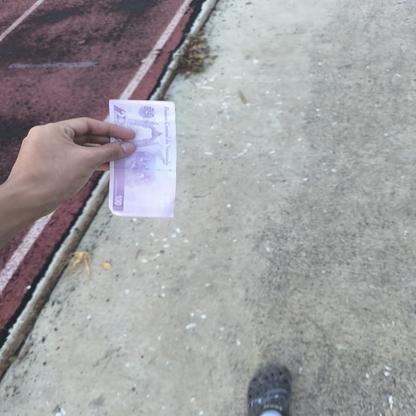one_hundred-back-vef: (108, 100, 176, 218)
